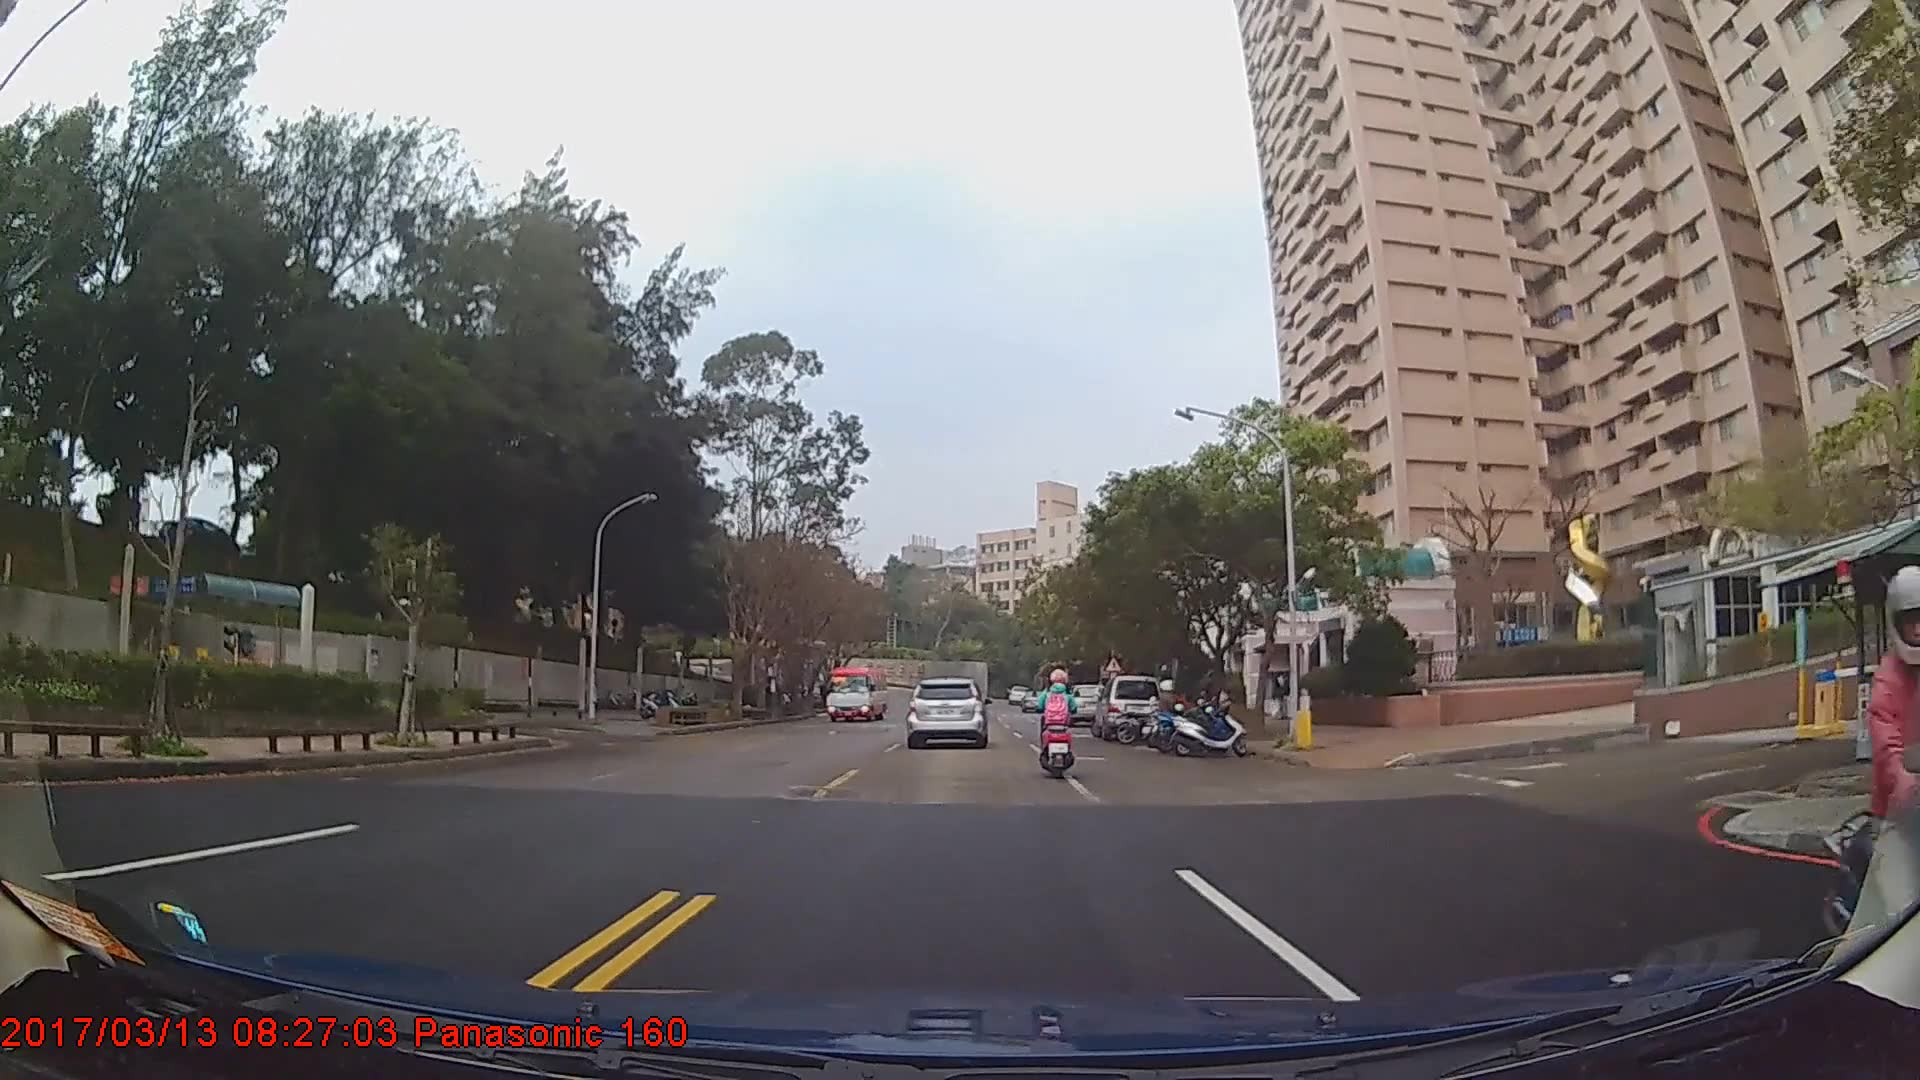rider: (1826, 559, 1920, 983), (1035, 667, 1081, 786), (1143, 679, 1189, 750)
vehicle: (906, 678, 987, 748), (1092, 674, 1162, 740), (822, 666, 886, 725)
